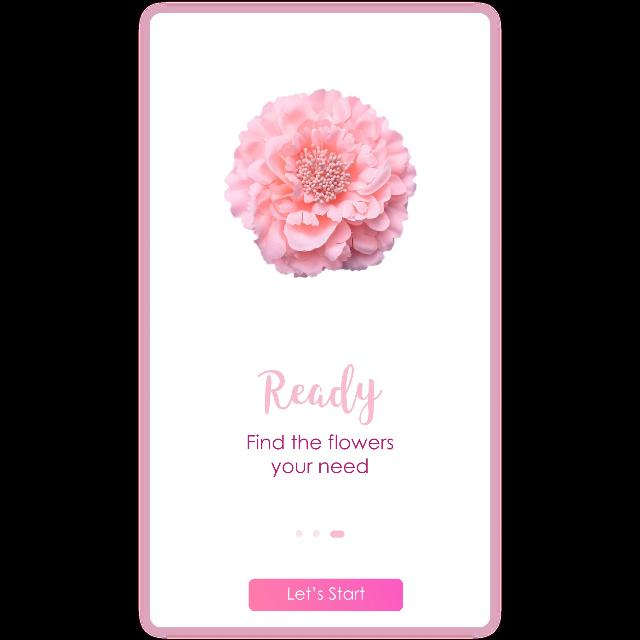image: (224, 88, 418, 278), (258, 364, 384, 426)
pageindicator: (296, 530, 346, 538)
text: (248, 434, 394, 478)
textbutton: (248, 578, 404, 612)
